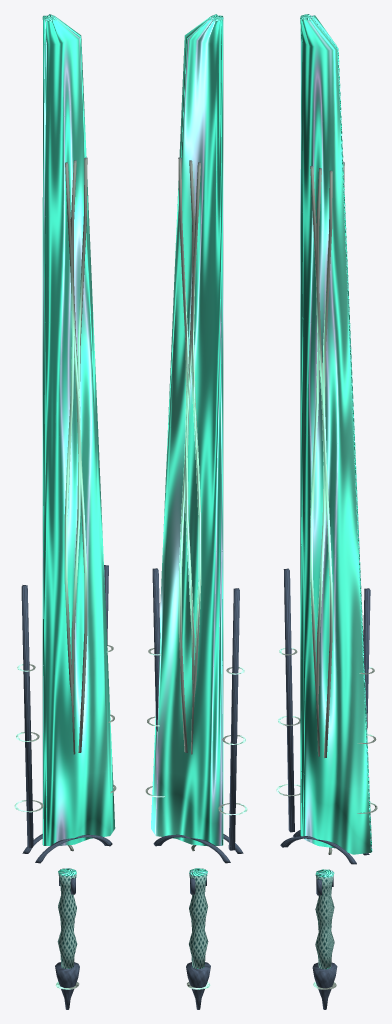
File: sword_13_aurora_polar.glb
3 renders of one model, left to right at view 1: azimuth 30°, elevation 25°; view 2: azimuth 150°, elevation 25°; view 3: azimuth 330°, elevation 25°, orthographic.
Parts seen in each view (by area): view 1: Blade_AuroraPolar, Inlay_AuroraCurtains, Pillars_MagneticPoles, Grip_AuroraBraid, Pommel_PolarOrb, Guard_PoleArc; view 2: Blade_AuroraPolar, Inlay_AuroraCurtains, Pillars_MagneticPoles, Grip_AuroraBraid, Pommel_PolarOrb, Guard_PoleArc; view 3: Blade_AuroraPolar, Inlay_AuroraCurtains, Pillars_MagneticPoles, Grip_AuroraBraid, Pommel_PolarOrb, Guard_PoleArc.
Part boxes in pixels (x1,y1,x2,y2): Blade_AuroraPolar: (42, 14, 115, 846); Inlay_AuroraCurtains: (64, 157, 87, 754); Pillars_MagneticPoles: (14, 565, 116, 847); Grip_AuroraBraid: (57, 868, 77, 968); Pommel_PolarOrb: (55, 962, 79, 1009); Guard_PoleArc: (22, 834, 112, 894); Blade_AuroraPolar: (151, 14, 223, 846); Inlay_AuroraCurtains: (178, 157, 201, 754); Pillars_MagneticPoles: (145, 568, 247, 850); Grip_AuroraBraid: (189, 868, 208, 968); Pommel_PolarOrb: (186, 962, 210, 1009); Guard_PoleArc: (153, 834, 243, 894); Blade_AuroraPolar: (300, 14, 372, 854); Inlay_AuroraCurtains: (310, 161, 344, 757); Pillars_MagneticPoles: (276, 568, 377, 832); Grip_AuroraBraid: (315, 869, 334, 969); Pommel_PolarOrb: (312, 962, 337, 1009); Guard_PoleArc: (280, 830, 369, 895).
Bounding box in the file's own units: 0.2695 × 2.6 × 0.0833.
1 material, 1 textured.
